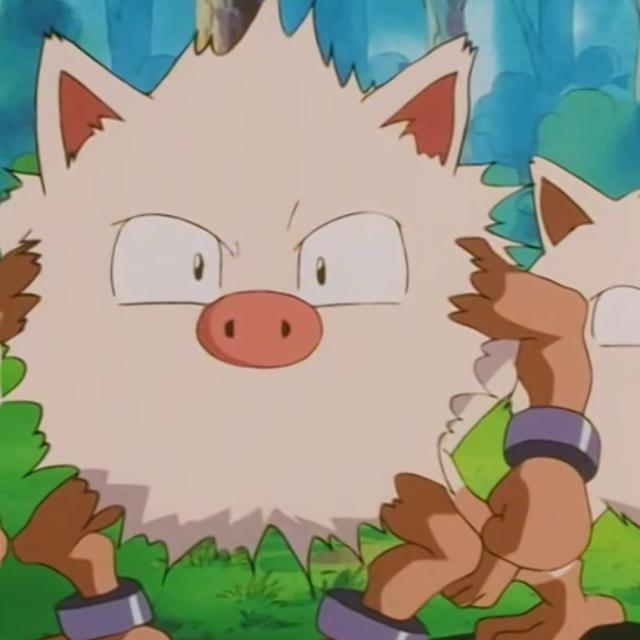Primeape: (19, 33, 508, 626)
